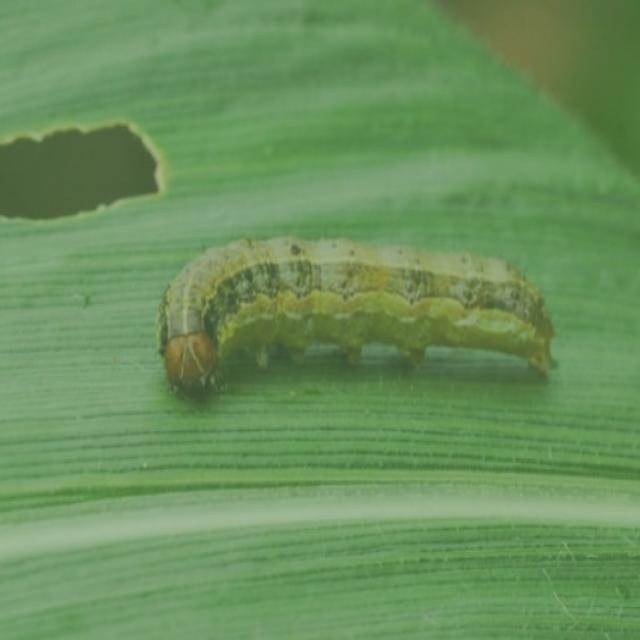armyworm: (154, 232, 557, 401)
